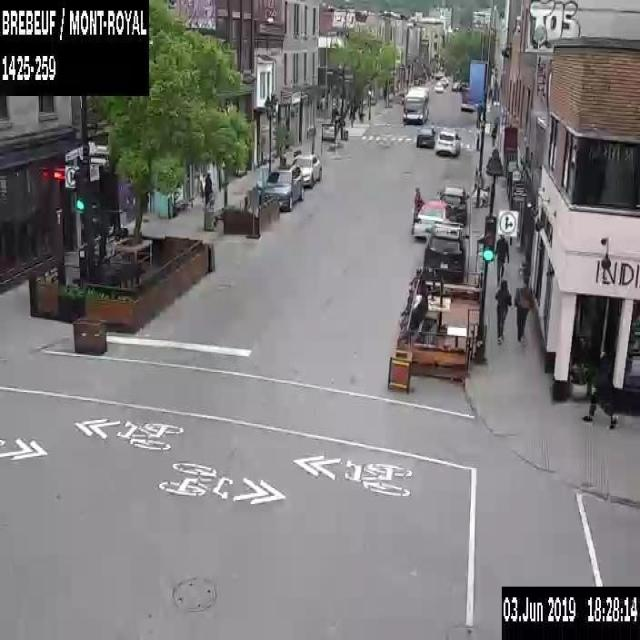bus: (402, 84, 428, 123)
pedestrian: (582, 350, 619, 426), (494, 275, 512, 347), (514, 275, 532, 343), (495, 232, 508, 287), (202, 171, 213, 205), (412, 185, 422, 212), (490, 127, 496, 145)
vehicle: (425, 222, 468, 278), (255, 164, 301, 210), (411, 200, 459, 240), (285, 152, 322, 187), (436, 185, 470, 219), (435, 125, 459, 155), (416, 123, 436, 146), (459, 100, 474, 112), (433, 81, 443, 92)
